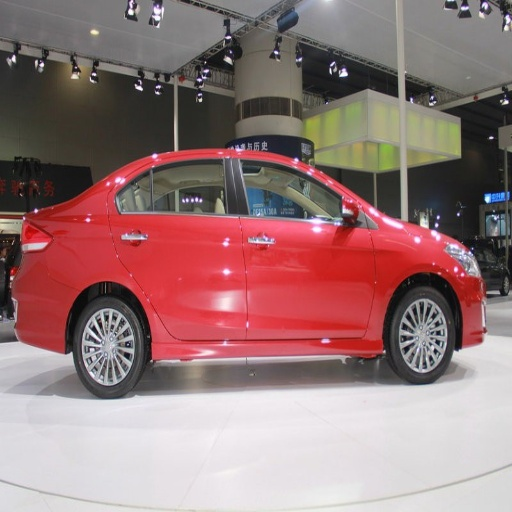back_right_door: (113, 152, 245, 339)
front_right_door: (233, 153, 374, 339)
